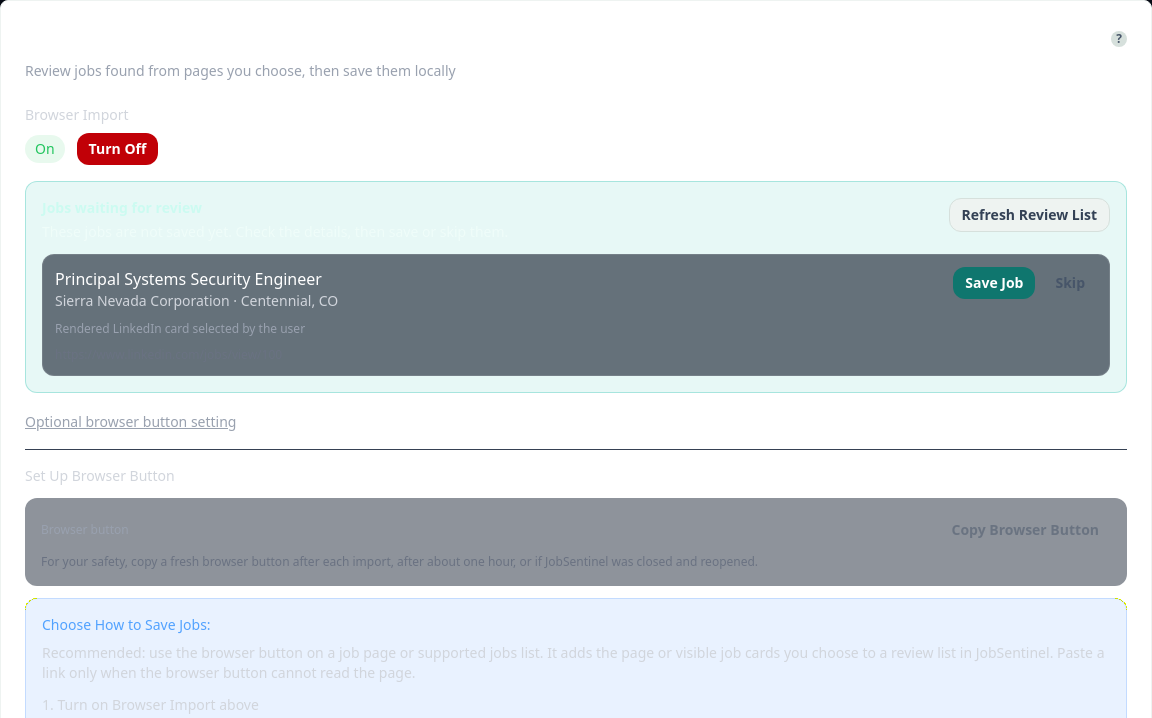
Test: BrowserImportSection › shows browser imports as review items and saves only after user confirmation
Expected: the heading "Jobs waiting for review" is shown, [42, 198, 202, 217]
Expected: the text "Principal Systems Security Engineer" is shown, [55, 268, 322, 290]
Click the button with aria-label "save principal systems security engineer" at (994, 283), box [953, 267, 1036, 299]
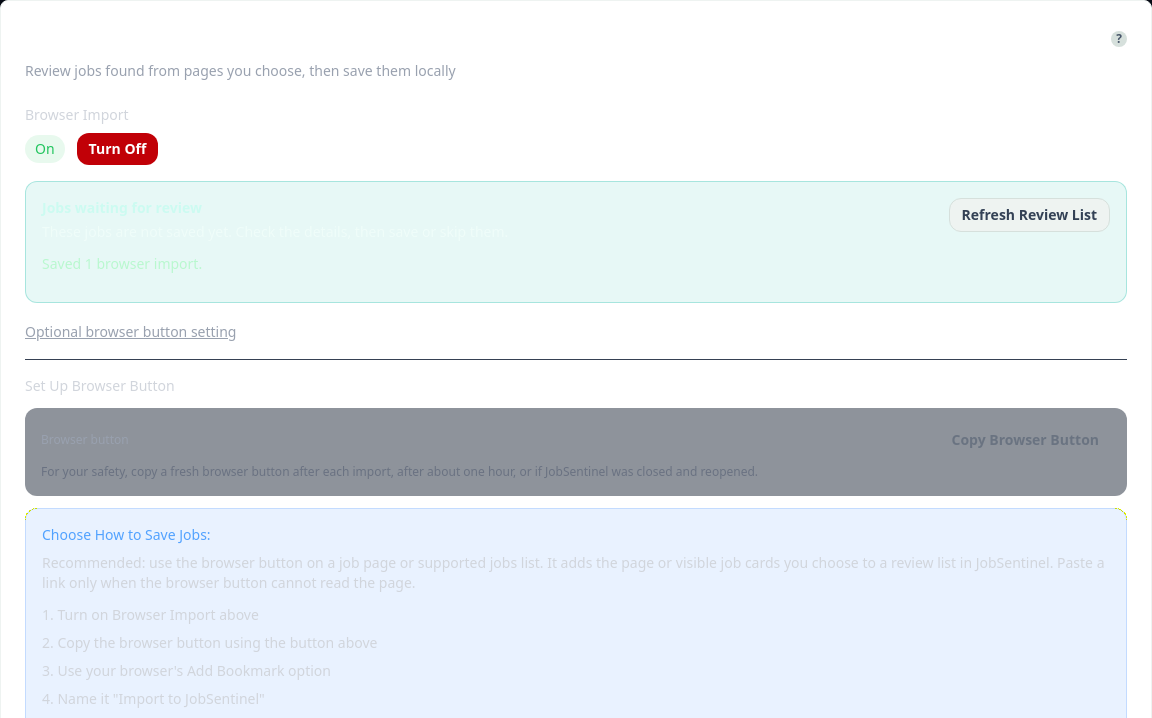
Expected: the text "Saved 1 browser import." is shown, [42, 254, 202, 273]
